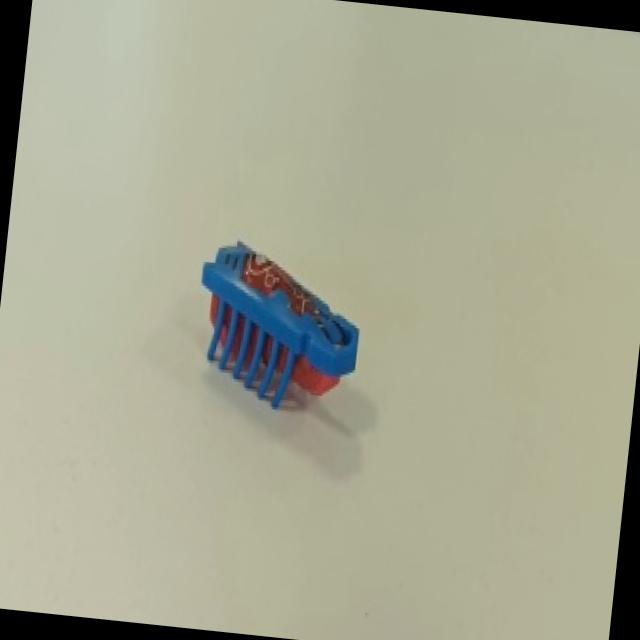1_NanoBug_Azul: (160, 198, 390, 440)
